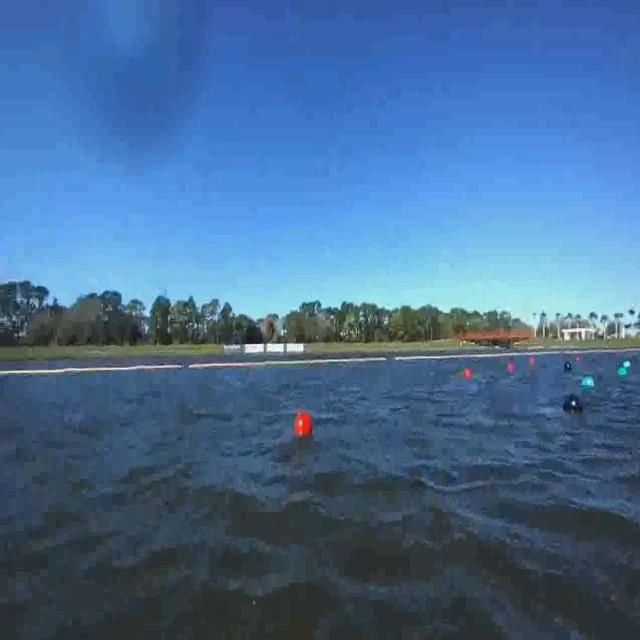black-buoy: (564, 396, 583, 414)
green-buoy: (582, 378, 596, 393), (618, 367, 628, 378)
red-buoy: (296, 414, 313, 438), (530, 356, 536, 367)
